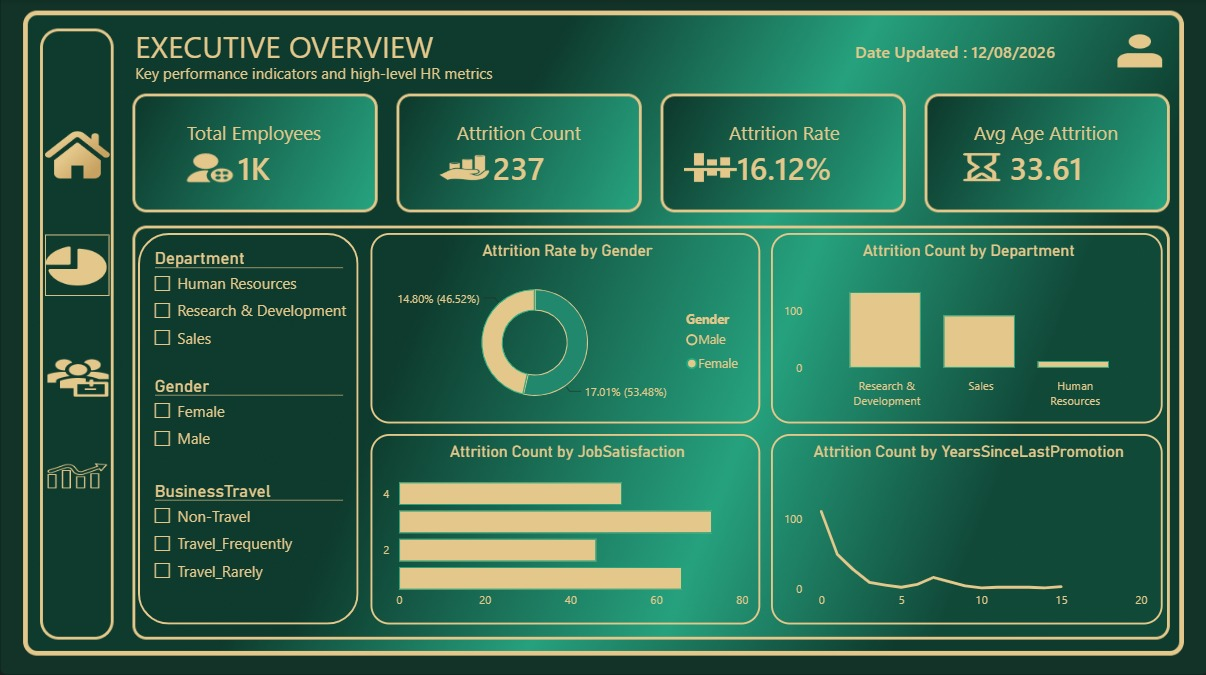

The dashboard page shown, as its layout file describes it:
{"tool":"powerbi","page":{"name":"Executivte overvew","canvas":[1280,720],"ordinal":1},"visuals":[{"type":"textbox","box":[138.4,22.3,483.5,79.5],"z":0},{"type":"cardVisual","fields":{"Data":["Fact Table.Total Employees"]},"box":[146.3,109.8,246.5,109.8],"z":1000},{"type":"cardVisual","fields":{"Data":["Fact Table.Attrition Count"]},"box":[424.7,109.8,251.3,109.8],"z":2000},{"type":"cardVisual","fields":{"Data":["Fact Table.Attrition Rate"]},"box":[707.8,109.8,248.1,109.8],"z":3000},{"type":"cardVisual","fields":{"Data":["Fact Table.Avg Age Attrition"]},"box":[986.2,109.8,246.5,109.8],"z":4000},{"type":"textbox","box":[138.4,62,454.9,47.7],"z":5000},{"type":"shape","box":[146.3,248.1,233.8,415.1],"z":6000},{"type":"donutChart","fields":{"Y":["Fact Table.Attrition Rate"],"Category":["Fact Table.Gender"]},"box":[392.9,248.1,413.6,202],"z":7000},{"type":"clusteredBarChart","fields":{"Category":["Fact Table.JobSatisfaction"],"Y":["Fact Table.Attrition Count"]},"box":[392.9,461.3,413.6,202],"z":8000},{"type":"clusteredColumnChart","fields":{"Y":["Fact Table.Attrition Count"],"Category":["Fact Table.Department"]},"box":[817.6,248.1,415.1,202],"z":9000},{"type":"lineChart","fields":{"Category":["Fact Table.YearsSinceLastPromotion"],"Y":["Fact Table.Attrition Count"]},"box":[817.6,461.3,415.1,202],"z":10000},{"type":"slicer","fields":{"Values":["Fact Table.Department"]},"box":[151.1,259.3,225.9,128.8],"z":11000},{"type":"slicer","fields":{"Values":["Fact Table.Gender"]},"box":[151.1,394.5,225.9,111.3],"z":12000},{"type":"slicer","fields":{"Values":["Fact Table.BusinessTravel"]},"box":[151.1,505.8,225.9,135.2],"z":13000},{"type":"image","box":[47.7,125.7,68.4,79.5],"z":14000},{"type":"image","box":[47.7,241.8,65.2,82.7],"z":15000},{"type":"actionButton","box":[47.7,119.3,68.4,79.5],"z":16000},{"type":"image","box":[46.1,359.5,73.2,84.3],"z":17000},{"type":"image","box":[47.7,475.6,68.4,60.4],"z":18000},{"type":"actionButton","box":[47.7,249.7,68.4,65.2],"z":19000},{"type":"actionButton","box":[47.7,362.7,73.2,62],"z":20000},{"type":"actionButton","box":[47.7,472.4,73.2,65.2],"z":21000},{"type":"image","box":[181.3,152.7,82.7,52.5],"z":22000},{"type":"image","box":[725.3,152.7,55.7,52.5],"z":23000},{"type":"image","box":[466,159.1,52.5,39.8],"z":24000},{"type":"image","box":[1014.8,160.7,52.5,35],"z":25000},{"type":"cardVisual","fields":{"Data":["Fact Table.Last Update Data"]},"box":[878,22.3,299,65.2],"z":26000},{"type":"image","box":[1177.1,27,63.6,55.7],"z":27000}]}

Visuals, with their boxes in screenshot pixels (x1, y1, x2, y2), scaled from the page's 1280x720 canvas onto the 1206x675 screenshot:
textbox: <box>130,21,586,95</box>
cardVisual - Fact Table.Total Employees: <box>138,103,370,206</box>
cardVisual - Fact Table.Attrition Count: <box>400,103,637,206</box>
cardVisual - Fact Table.Attrition Rate: <box>667,103,901,206</box>
cardVisual - Fact Table.Avg Age Attrition: <box>929,103,1161,206</box>
textbox: <box>130,58,559,103</box>
shape: <box>138,233,358,622</box>
donutChart - Fact Table.Attrition Rate x Fact Table.Gender: <box>370,233,760,422</box>
clusteredBarChart - Fact Table.JobSatisfaction x Fact Table.Attrition Count: <box>370,432,760,622</box>
clusteredColumnChart - Fact Table.Attrition Count x Fact Table.Department: <box>770,233,1161,422</box>
lineChart - Fact Table.YearsSinceLastPromotion x Fact Table.Attrition Count: <box>770,432,1161,622</box>
slicer - Fact Table.Department: <box>142,243,355,364</box>
slicer - Fact Table.Gender: <box>142,370,355,474</box>
slicer - Fact Table.BusinessTravel: <box>142,474,355,601</box>
image: <box>45,118,109,192</box>
image: <box>45,227,106,304</box>
actionButton: <box>45,112,109,186</box>
image: <box>43,337,112,416</box>
image: <box>45,446,109,502</box>
actionButton: <box>45,234,109,295</box>
actionButton: <box>45,340,114,398</box>
actionButton: <box>45,443,114,504</box>
image: <box>171,143,249,192</box>
image: <box>683,143,736,192</box>
image: <box>439,149,489,186</box>
image: <box>956,151,1006,183</box>
cardVisual - Fact Table.Last Update Data: <box>827,21,1109,82</box>
image: <box>1109,25,1169,78</box>
